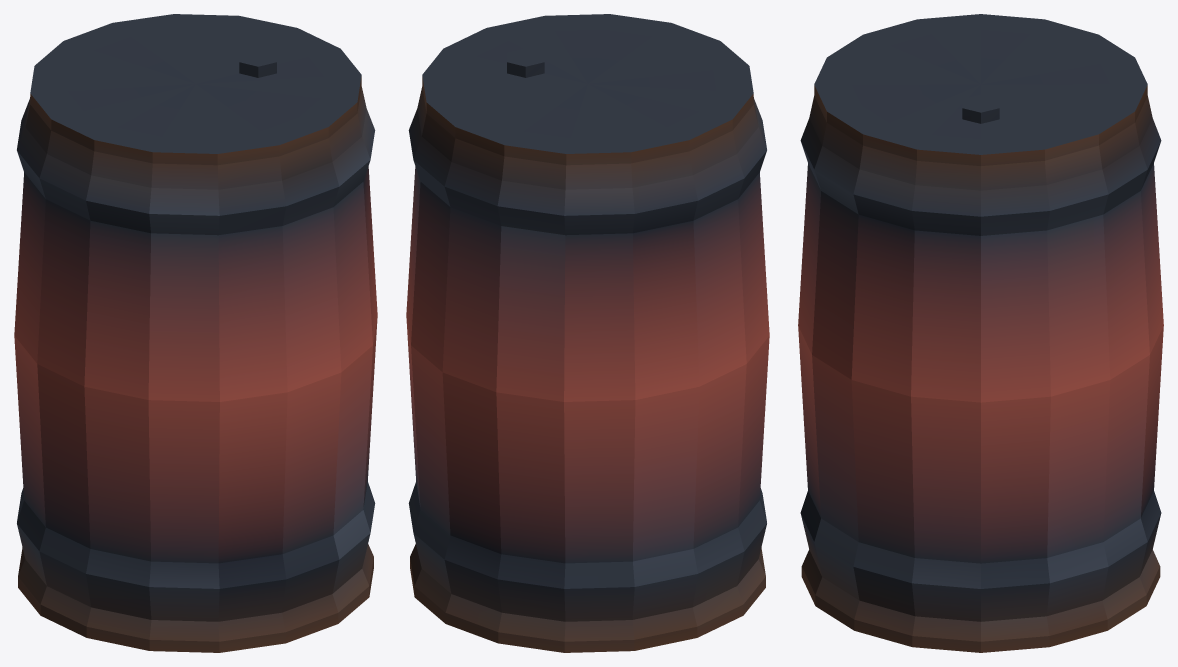
Rendered from barrel_gen_a.glb.
3 renders of one model, left to right at view 1: azimuth 30°, elevation 25°; view 2: azimuth 150°, elevation 25°; view 3: azimuth 270°, elevation 25°, orthographic.
Visible parts, largest first — view 1: barrel_gen_a; view 2: barrel_gen_a; view 3: barrel_gen_a.
Boxes of the visible parts, x1,y1,x2,y2 form: barrel_gen_a: [14, 14, 377, 652]; barrel_gen_a: [406, 14, 769, 652]; barrel_gen_a: [798, 14, 1163, 652].
Bounding box in the file's own units: 0.592 × 0.9 × 0.592.
